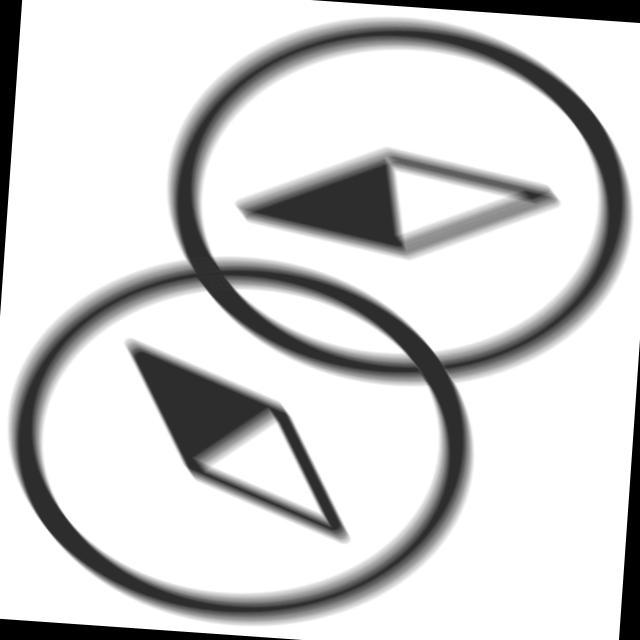compass: (1, 234, 496, 640), (149, 2, 640, 409)
